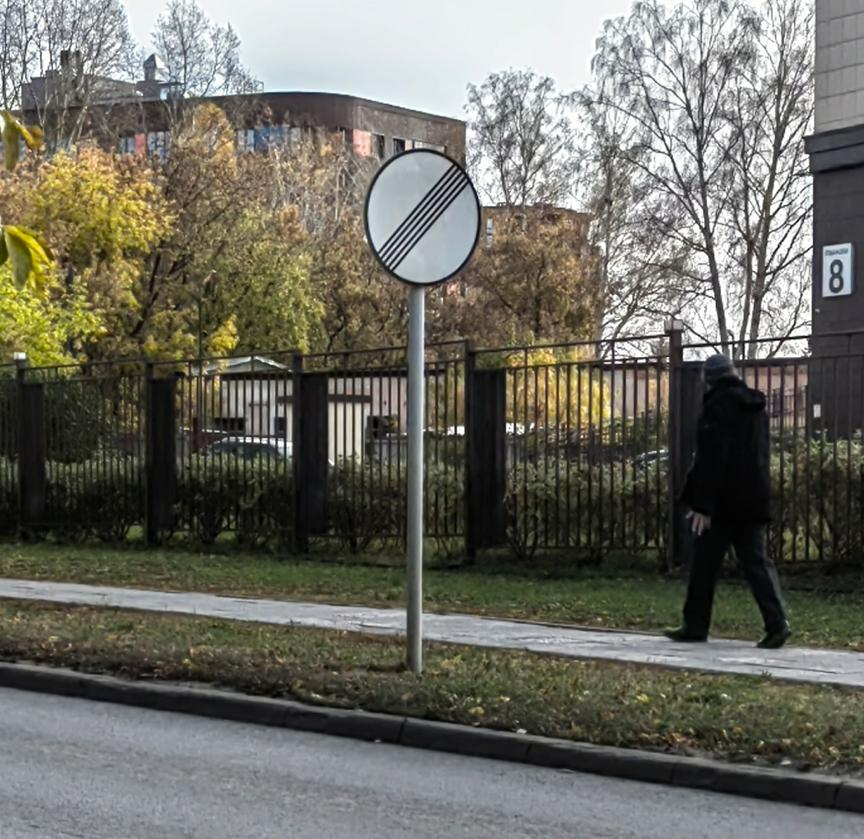road_sign: (366, 149, 480, 285)
